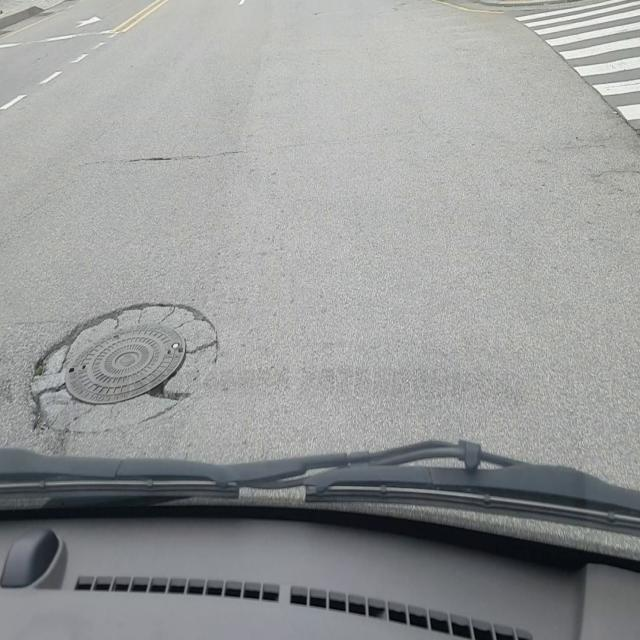Pothole: (24, 296, 221, 436)
